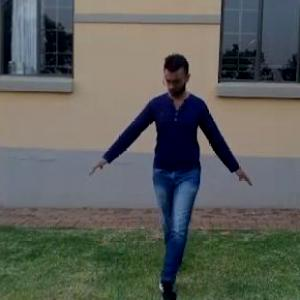land: (87, 39, 246, 282)
